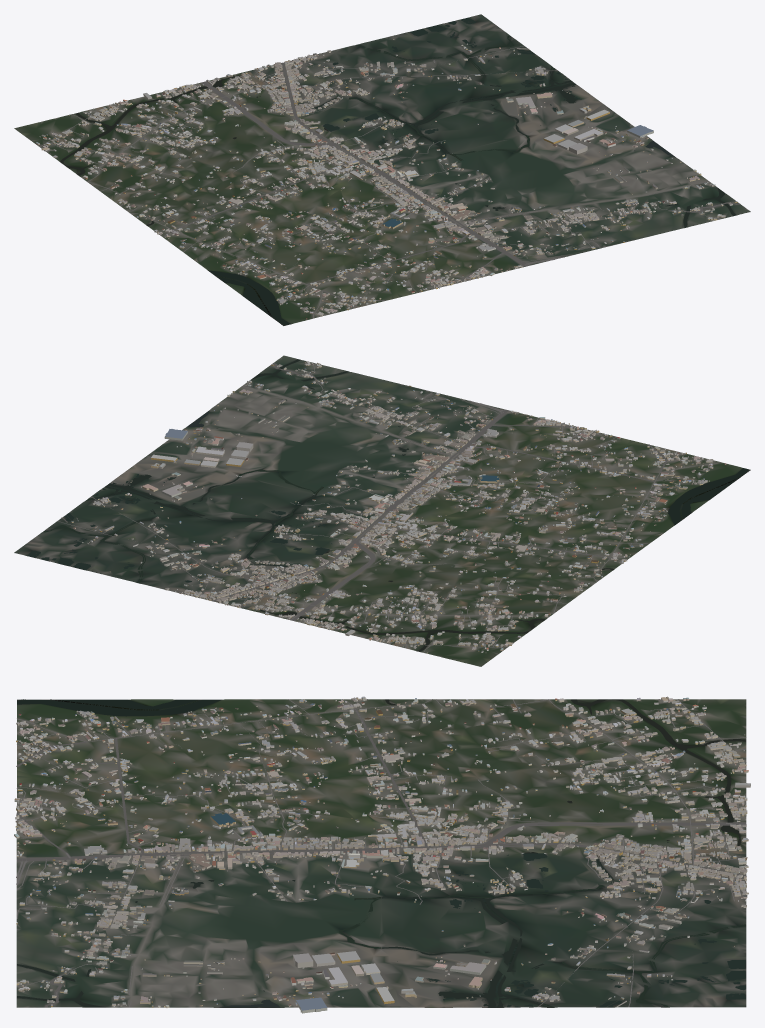
3 renders of one model, top to bottom at view 1: azimuth 30°, elevation 25°; view 2: azimuth 150°, elevation 25°; view 3: azimuth 270°, elevation 25°, orthographic. The views are drawn at different scales.
Parts seen in each view (by area): view 1: ground, buildings, roads, water; view 2: ground, buildings, roads, water; view 3: ground, buildings, roads, water.
Boxes of the visible parts, x1,y1,x2,y2 form: ground: [14, 14, 750, 325]; buildings: [35, 39, 737, 319]; roads: [39, 46, 739, 318]; water: [60, 17, 736, 325]; ground: [14, 355, 750, 666]; buildings: [61, 361, 726, 653]; roads: [58, 363, 720, 652]; water: [27, 359, 750, 651]; ground: [16, 699, 746, 1007]; buildings: [14, 696, 750, 1013]; roads: [16, 699, 746, 1007]; water: [17, 699, 745, 1007].
Bounding box in the file's own units: 2862 × 27.77 × 2830.
